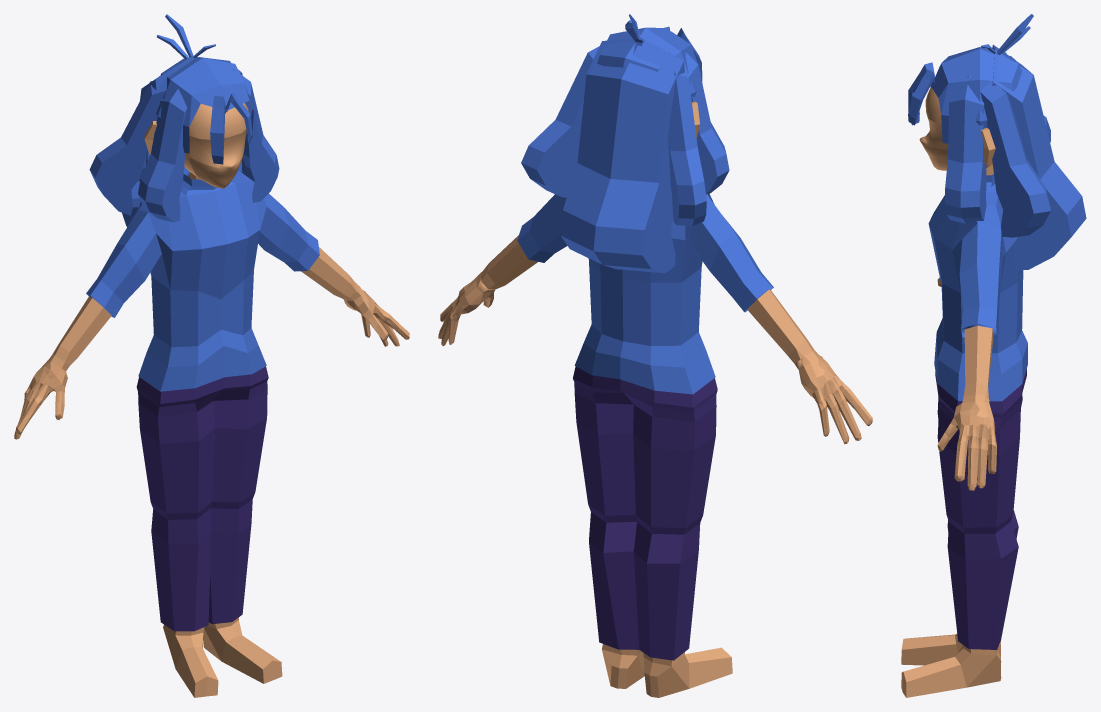
The picture shows the model from 3 angles, left to right: view 1: azimuth 30°, elevation 25°; view 2: azimuth 150°, elevation 25°; view 3: azimuth 270°, elevation 25°; orthographic projection. The views are drawn at different scales.
Parts seen in each view (by area): view 1: Cube.069, Cube.070, Cube.057, Cube.062, Cube.061, Cube.063, Cube.067, eyes, Cube.058, mouth.001, Cube.060; view 2: Cube.070, Cube.069, Cube.060, Cube.057, Cube.061, Cube.062, Cube.063; view 3: Cube.070, Cube.069, Cube.057, Cube.060, Cube.061, Cube.062, Cube.063, Cube.059, Cube.067, eyes, mouth.001, Cube.068 (+2 smaller).
Part boxes in pixels (left/top/right/bottom): Cube.069: left=86, top=168, right=319, bottom=391; Cube.070: left=136, top=366, right=268, bottom=631; Cube.057: left=14, top=172, right=409, bottom=697; Cube.062: left=138, top=69, right=279, bottom=222; Cube.061: left=89, top=62, right=245, bottom=215; Cube.063: left=156, top=57, right=253, bottom=153; Cube.067: left=184, top=103, right=248, bottom=177; eyes: left=188, top=129, right=246, bottom=168; Cube.058: left=210, top=96, right=225, bottom=164; mouth.001: left=189, top=153, right=243, bottom=188; Cube.060: left=122, top=56, right=230, bottom=226; Cube.070: left=573, top=366, right=717, bottom=660; Cube.069: left=517, top=194, right=773, bottom=394; Cube.060: left=560, top=37, right=684, bottom=273; Cube.057: left=438, top=235, right=872, bottom=697; Cube.061: left=521, top=46, right=706, bottom=225; Cube.062: left=679, top=45, right=729, bottom=194; Cube.063: left=597, top=27, right=701, bottom=96; Cube.070: left=935, top=369, right=1026, bottom=649; Cube.069: left=928, top=174, right=1027, bottom=401; Cube.057: left=901, top=164, right=1001, bottom=697; Cube.060: left=992, top=44, right=1086, bottom=269; Cube.061: left=980, top=49, right=1050, bottom=237; Cube.062: left=945, top=50, right=986, bottom=223; Cube.063: left=931, top=47, right=1022, bottom=143; Cube.059: left=908, top=69, right=934, bottom=125; Cube.067: left=919, top=87, right=941, bottom=146; eyes: left=924, top=119, right=948, bottom=148; mouth.001: left=920, top=142, right=947, bottom=170; Cube.068: left=980, top=128, right=995, bottom=165.
Bounding box in the file's own units: 4.71 × 7.25 × 1.85.
